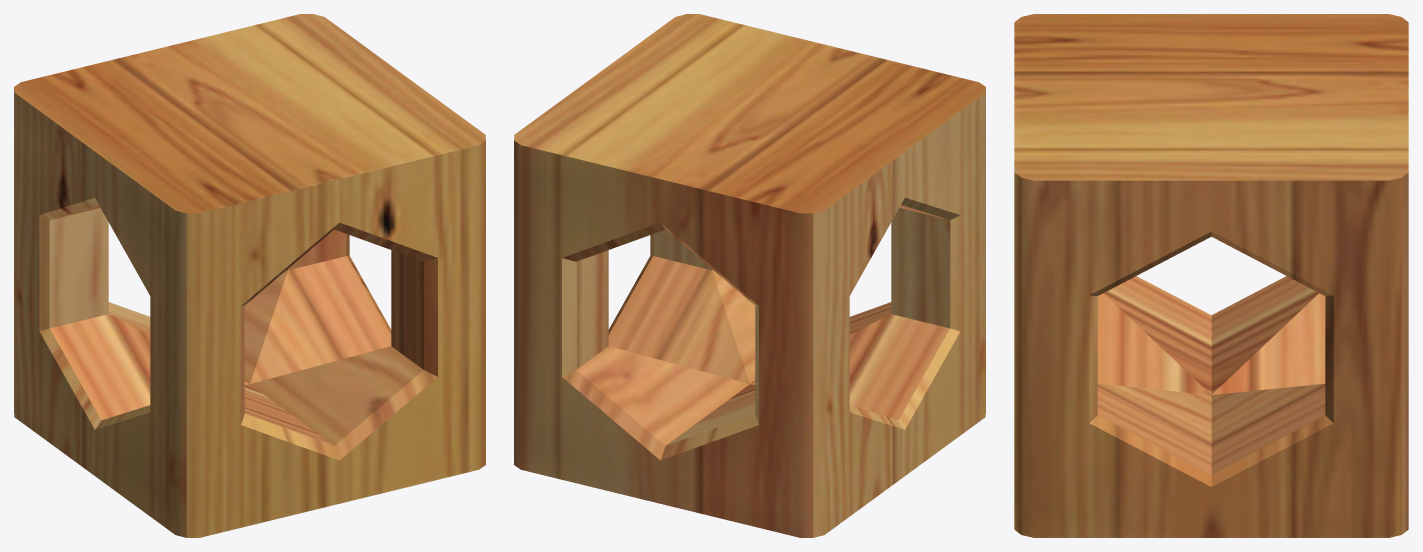
The model's file is tumiki.fbx.
3 renders of one model, left to right at view 1: azimuth 30°, elevation 25°; view 2: azimuth 150°, elevation 25°; view 3: azimuth 270°, elevation 25°, orthographic. The views are drawn at different scales.
Visible parts, largest first — view 1: pCube3; view 2: pCube3; view 3: pCube3.
Boxes of the visible parts, bbox=[...] form: pCube3: bbox=[14, 14, 485, 537]; pCube3: bbox=[514, 14, 985, 537]; pCube3: bbox=[1014, 14, 1408, 537].
Size of the model in its own units: 3 by 3 by 3.
1 material, 1 textured.
